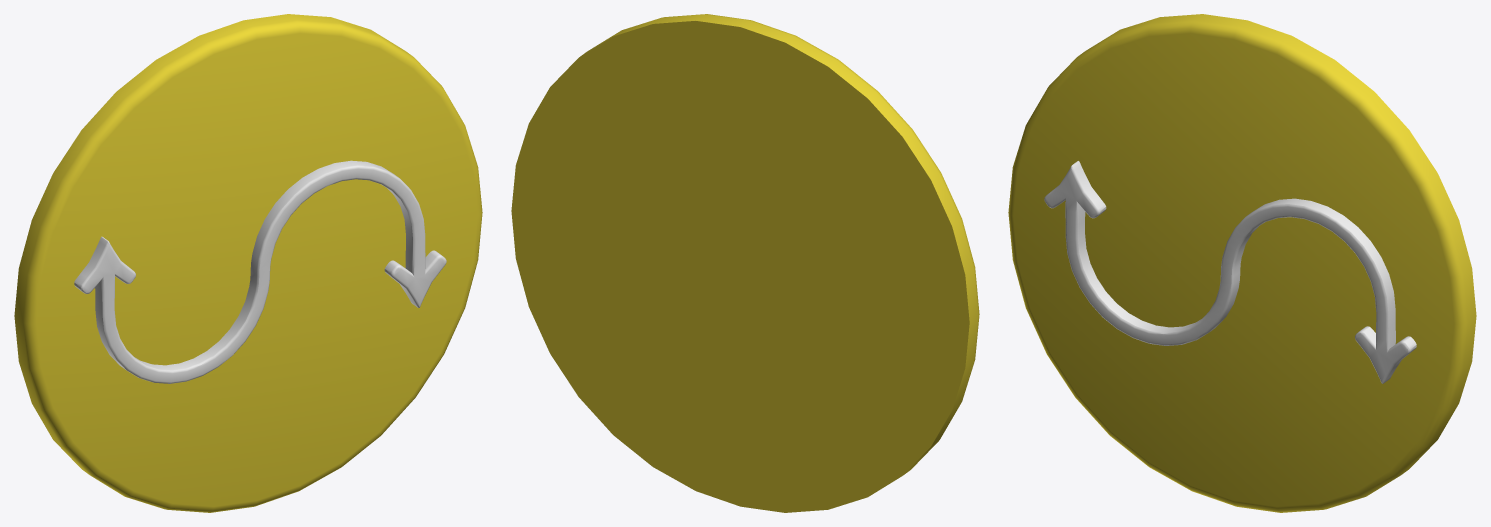
File: Geo_Swap_Pow_Up.fbx
3 renders of one model, left to right at view 1: azimuth 30°, elevation 25°; view 2: azimuth 150°, elevation 25°; view 3: azimuth 330°, elevation 25°, orthographic.
Parts seen in each view (by area): view 1: Circle.001, Circle.002; view 2: Circle.001; view 3: Circle.001, Circle.002.
Part boxes in pixels (<box>): Circle.001: <box>14,14,482,512</box>; Circle.002: <box>74,160,446,383</box>; Circle.001: <box>511,14,979,512</box>; Circle.001: <box>1008,14,1476,512</box>; Circle.002: <box>1044,161,1416,383</box>.
Size of the model in its own units: 183 by 183 by 14.55.
